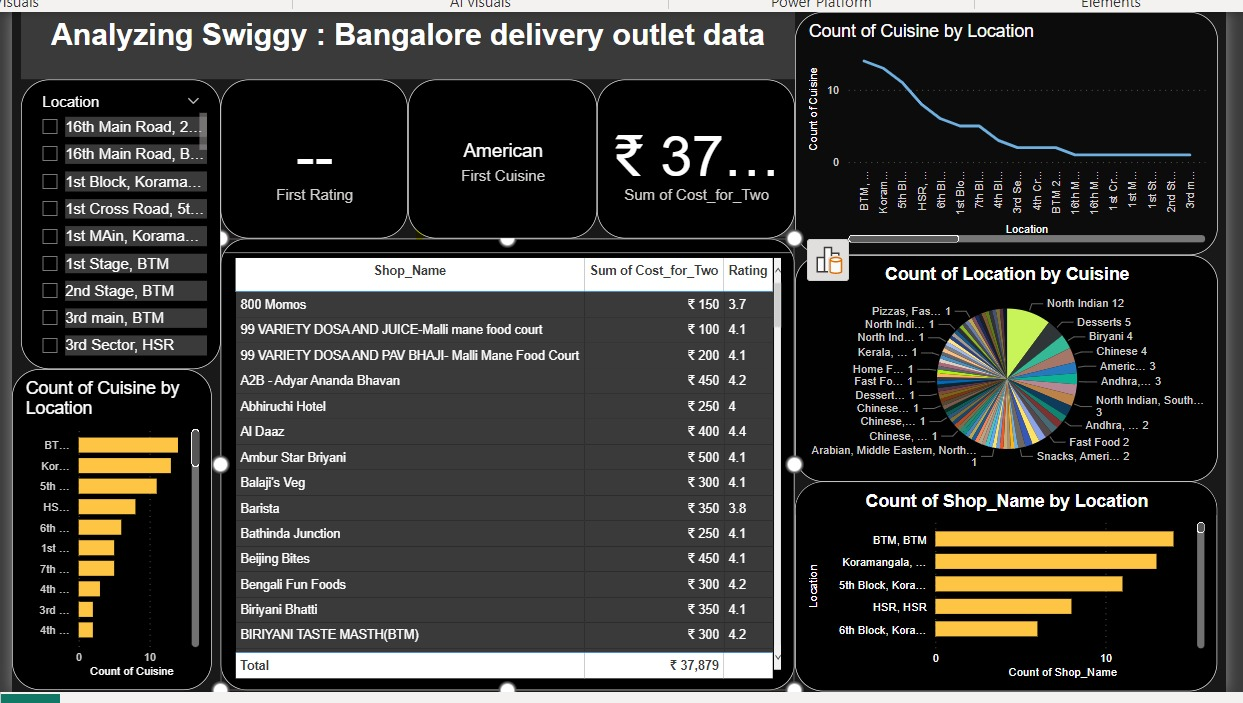

The page's visual inventory and layout, read from the dashboard file:
{"tool":"powerbi","page":{"name":"Page 1","canvas":[1289,721],"ordinal":0},"visuals":[{"type":"textbox","box":[9.5,0,821.3,71.6],"z":0},{"type":"barChart","fields":{"Y":["CountNonNull(Swiggy Bangalore Outlet Details.Shop_Name)"],"Category":["Swiggy Bangalore Outlet Details.Location"]},"box":[831.3,497.5,448.2,222.5],"z":1000},{"type":"pieChart","fields":{"Y":["CountNonNull(Swiggy Bangalore Outlet Details.Location)"],"Category":["Swiggy Bangalore Outlet Details.Cuisine"]},"box":[830.8,257.8,448.8,240.3],"z":2000},{"type":"lineChart","fields":{"Category":["Swiggy Bangalore Outlet Details.Location"],"Y":["CountNonNull(Swiggy Bangalore Outlet Details.Cuisine)"]},"box":[830.8,0,448.8,257.8],"z":3000},{"type":"tableEx","fields":{"Values":["Swiggy Bangalore Outlet Details.Shop_Name","Sum(Swiggy Bangalore Outlet Details.Cost_for_Two)","Swiggy Bangalore Outlet Details.Rating"]},"box":[221.2,240.3,609.6,479.1],"z":4000},{"type":"barChart","fields":{"Category":["Swiggy Bangalore Outlet Details.Location"],"Y":["CountNonNull(Swiggy Bangalore Outlet Details.Cuisine)"]},"box":[0,378.8,211.7,340.6],"z":5000},{"type":"slicer","fields":{"Values":["Swiggy Bangalore Outlet Details.Location"]},"box":[9.5,71.6,211.7,307.2],"z":6000},{"type":"card","fields":{"Values":["Min(Swiggy Bangalore Outlet Details.Cuisine)"]},"box":[420.2,71.6,200.5,168.7],"z":7000},{"type":"card","fields":{"Values":["Sum(Swiggy Bangalore Outlet Details.Cost_for_Two)"]},"box":[620.7,71.6,210.1,168.7],"z":8000},{"type":"card","fields":{"Values":["Min(Swiggy Bangalore Outlet Details.Rating)"]},"box":[221.2,71.6,199,168.7],"z":9000}]}

Visuals, with their boxes in screenshot pixels (x1, y1, x2, y2):
textbox: BBox(12, 6, 793, 75)
barChart - CountNonNull(Swiggy Bangalore Outlet Details.Shop_Name) x Swiggy Bangalore Outlet Details.Location: BBox(794, 480, 1220, 691)
pieChart - CountNonNull(Swiggy Bangalore Outlet Details.Location) x Swiggy Bangalore Outlet Details.Cuisine: BBox(793, 252, 1220, 480)
lineChart - Swiggy Bangalore Outlet Details.Location x CountNonNull(Swiggy Bangalore Outlet Details.Cuisine): BBox(793, 6, 1220, 252)
tableEx - Swiggy Bangalore Outlet Details.Shop_Name x Sum(Swiggy Bangalore Outlet Details.Cost_for_Two): BBox(214, 235, 793, 691)
barChart - Swiggy Bangalore Outlet Details.Location x CountNonNull(Swiggy Bangalore Outlet Details.Cuisine): BBox(3, 367, 205, 691)
slicer - Swiggy Bangalore Outlet Details.Location: BBox(12, 75, 214, 367)
card - Min(Swiggy Bangalore Outlet Details.Cuisine): BBox(403, 75, 594, 235)
card - Sum(Swiggy Bangalore Outlet Details.Cost_for_Two): BBox(594, 75, 793, 235)
card - Min(Swiggy Bangalore Outlet Details.Rating): BBox(214, 75, 403, 235)
